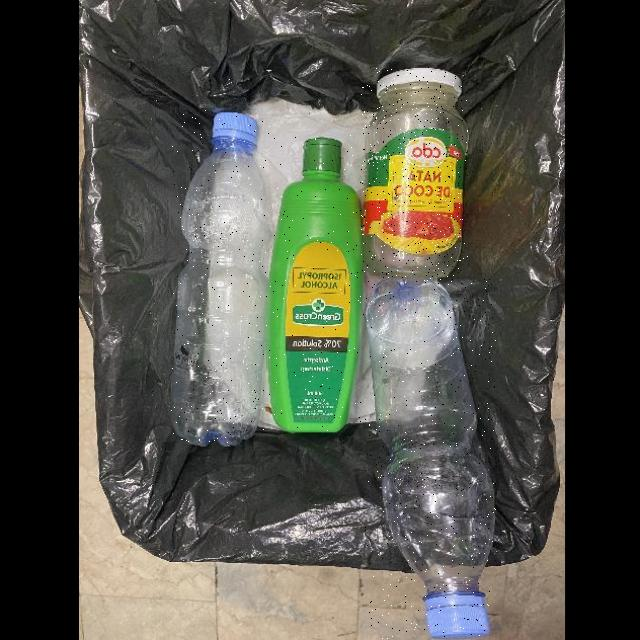glass: (361, 66, 468, 278)
plastic: (365, 275, 496, 639), (172, 110, 275, 445), (267, 135, 364, 432)
